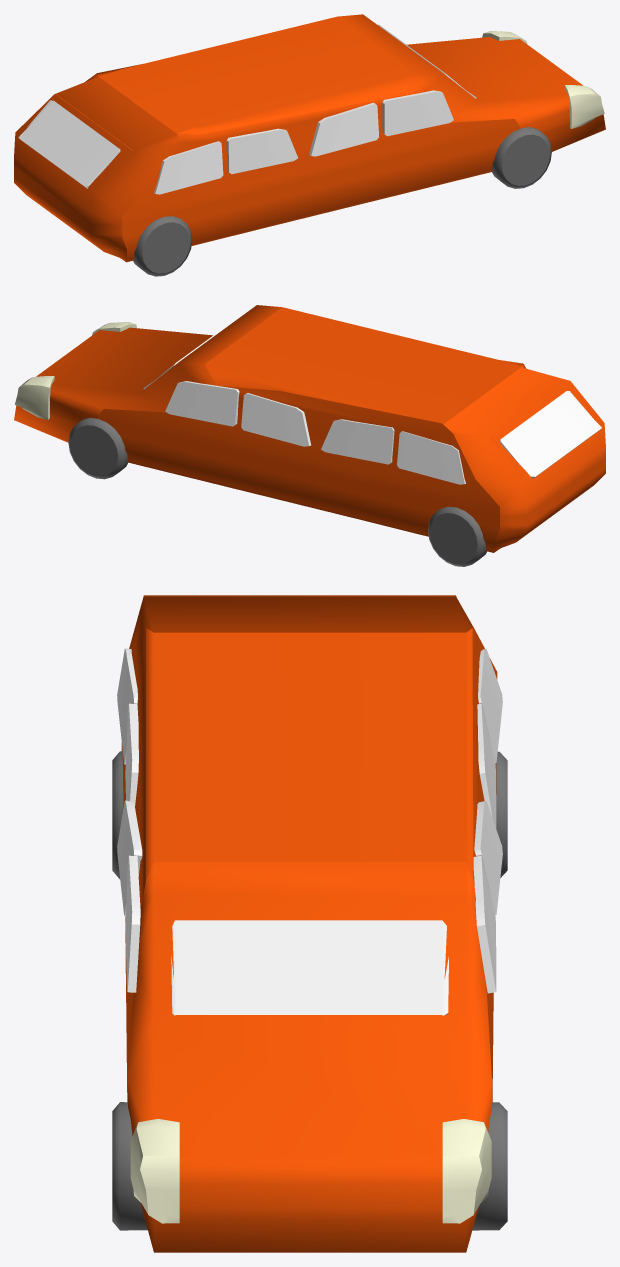
The model's file is CarroRojo.fbx.
The picture shows the model from 3 angles, top to bottom: view 1: azimuth 30°, elevation 25°; view 2: azimuth 150°, elevation 25°; view 3: azimuth 270°, elevation 25°; orthographic projection. The views are drawn at different scales.
Parts seen in each view (by area): view 1: pCube1, pCube10, pCylinder1, pCylinder2, pCube13, pCube8, pasted__pCube8, pasted__pCube13, pCube9; view 2: pCube1, pCube10, pCylinder3, pCylinder4, pasted__pCube12, pCube14, pasted__pasted__pCube12, pasted__pCube14, pCube9; view 3: pCube1, pCube6, pCube9, pCylinder1, pCylinder3, pasted__pCube12, pCube14, pCube8, pasted__pCube14, pCube13, pasted__pasted__pCube12, pasted__pCube13 (+3 smaller).
Boxes of the visible parts, box(x1,y1,x2,y2) form: pCube1: box(14, 14, 605, 262); pCube10: box(18, 100, 120, 188); pCylinder1: box(492, 127, 551, 188); pCylinder2: box(133, 216, 192, 276); pCube13: box(309, 102, 378, 156); pCube8: box(382, 90, 453, 136); pasted__pCube8: box(226, 128, 297, 174); pasted__pCube13: box(154, 141, 223, 194); pCube9: box(482, 31, 604, 128); pCube1: box(14, 305, 605, 552); pCube10: box(499, 391, 601, 478); pCylinder3: box(68, 418, 127, 479); pCylinder4: box(428, 506, 486, 566); pasted__pCube12: box(165, 381, 239, 426); pCube14: box(241, 393, 311, 446); pasted__pasted__pCube12: box(321, 419, 394, 464); pasted__pCube14: box(397, 431, 465, 484); pCube9: box(15, 322, 136, 419); pCube1: box(121, 595, 497, 1252); pCube6: box(171, 920, 448, 1015); pCube9: box(130, 1119, 491, 1223); pCylinder1: box(112, 1102, 147, 1230); pCylinder3: box(472, 1102, 507, 1230); pasted__pCube12: box(473, 856, 496, 993); pCube14: box(474, 800, 502, 915); pCube8: box(125, 855, 140, 992); pasted__pCube14: box(478, 648, 502, 763); pCube13: box(117, 800, 142, 916); pasted__pasted__pCube12: box(477, 704, 496, 828); pasted__pCube13: box(117, 648, 137, 764).
Bounding box in the file's own units: 33.37 × 8.24 × 11.09.
